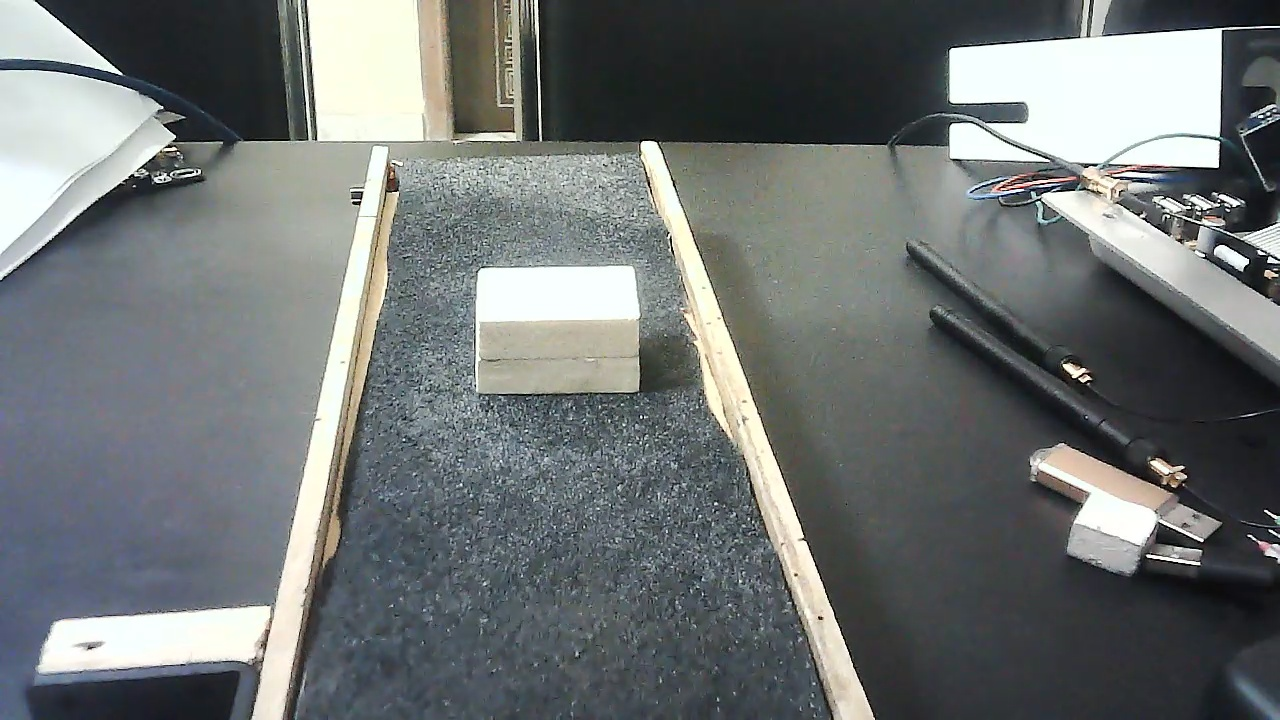BIG: (478, 249, 642, 413)
